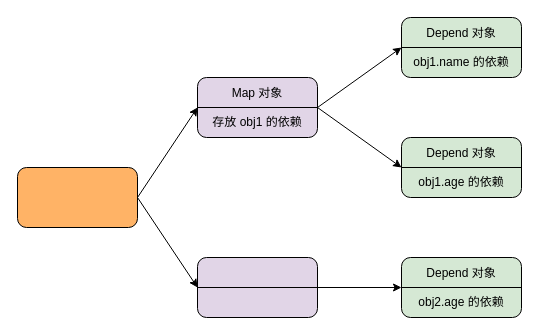
The diagram is 540 pixels wide and 335 high, and some of its shapes have lost their labels. The centre of each missing label's shape, as x and y in pixels:
Map 对象 存放 obj2 的依赖: pixel 257 287
WeakMap 对象: pixel 77 197
